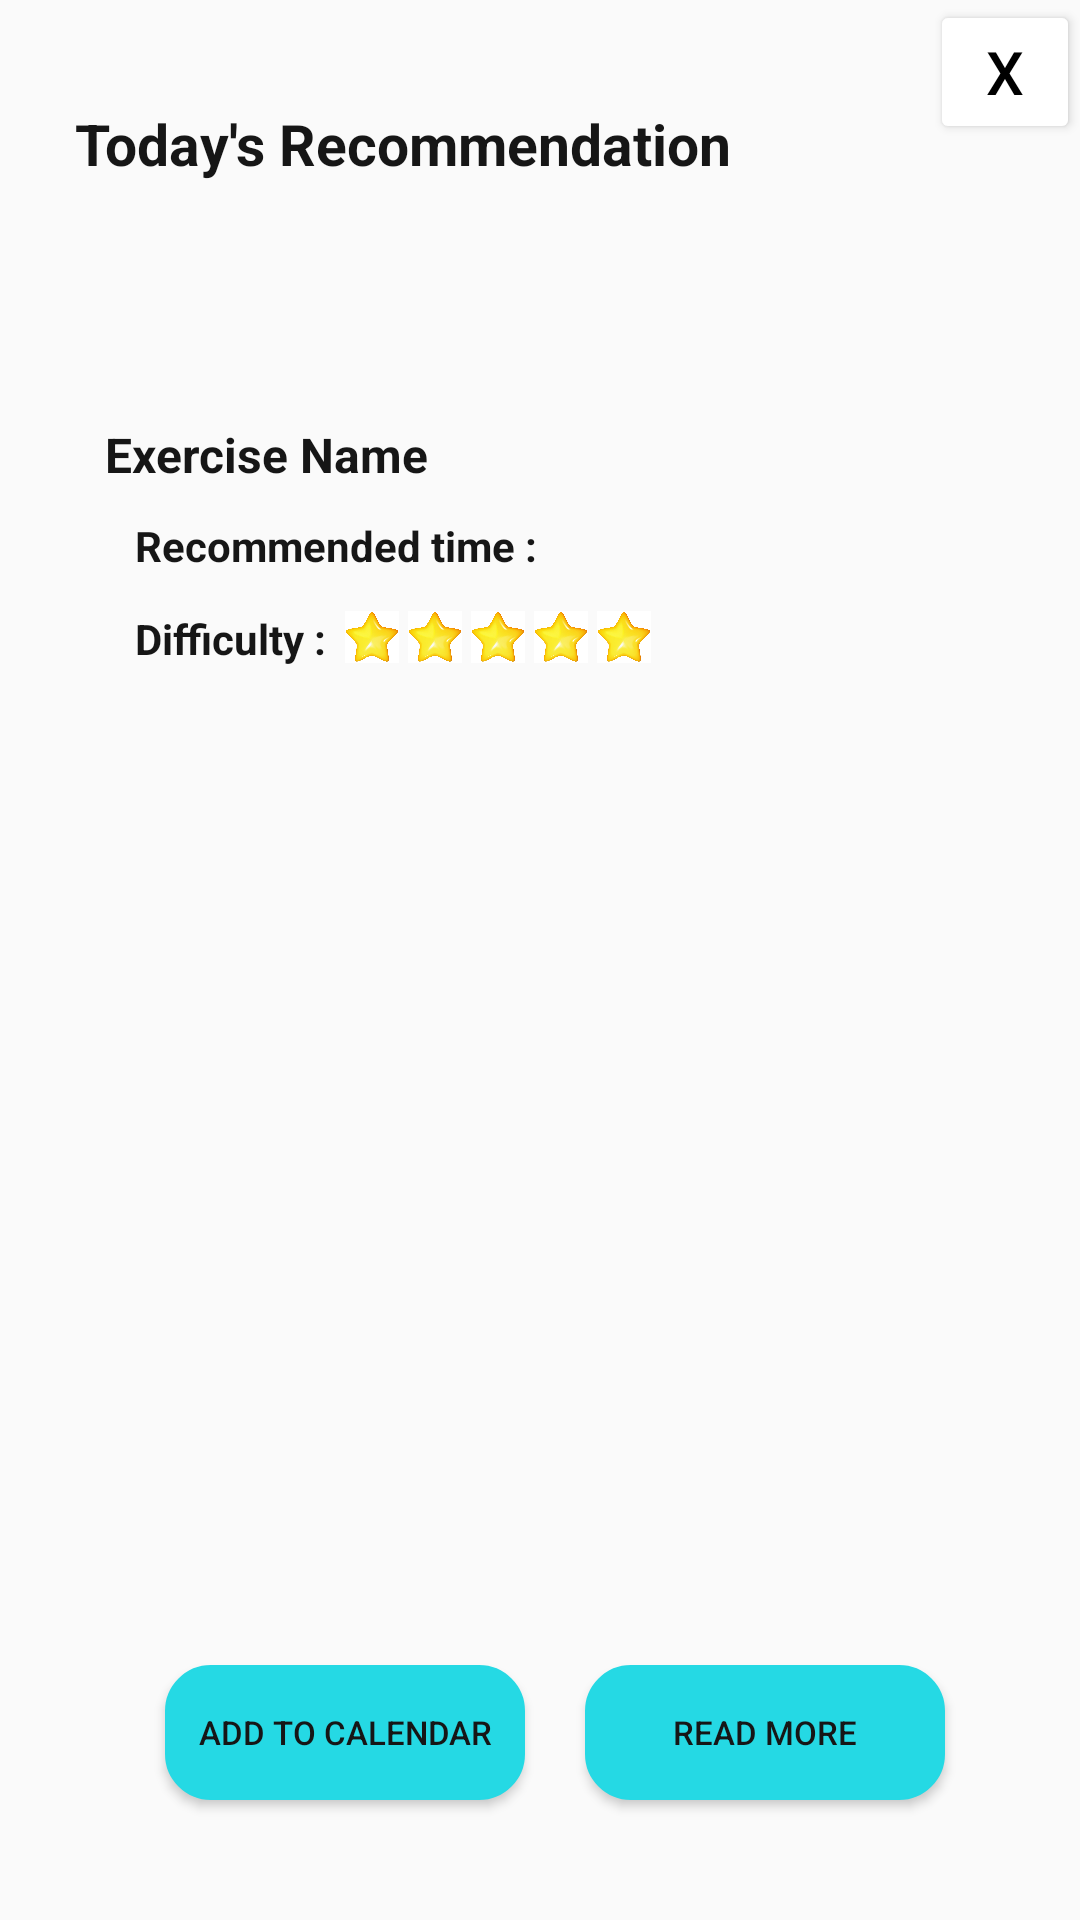

Icons on this 1080*1920 Android screen, each with its box as (x1, y1, x2, y2):
star: (346, 612, 398, 662), (409, 612, 461, 662), (472, 612, 524, 662), (535, 612, 587, 662), (598, 612, 650, 662)
